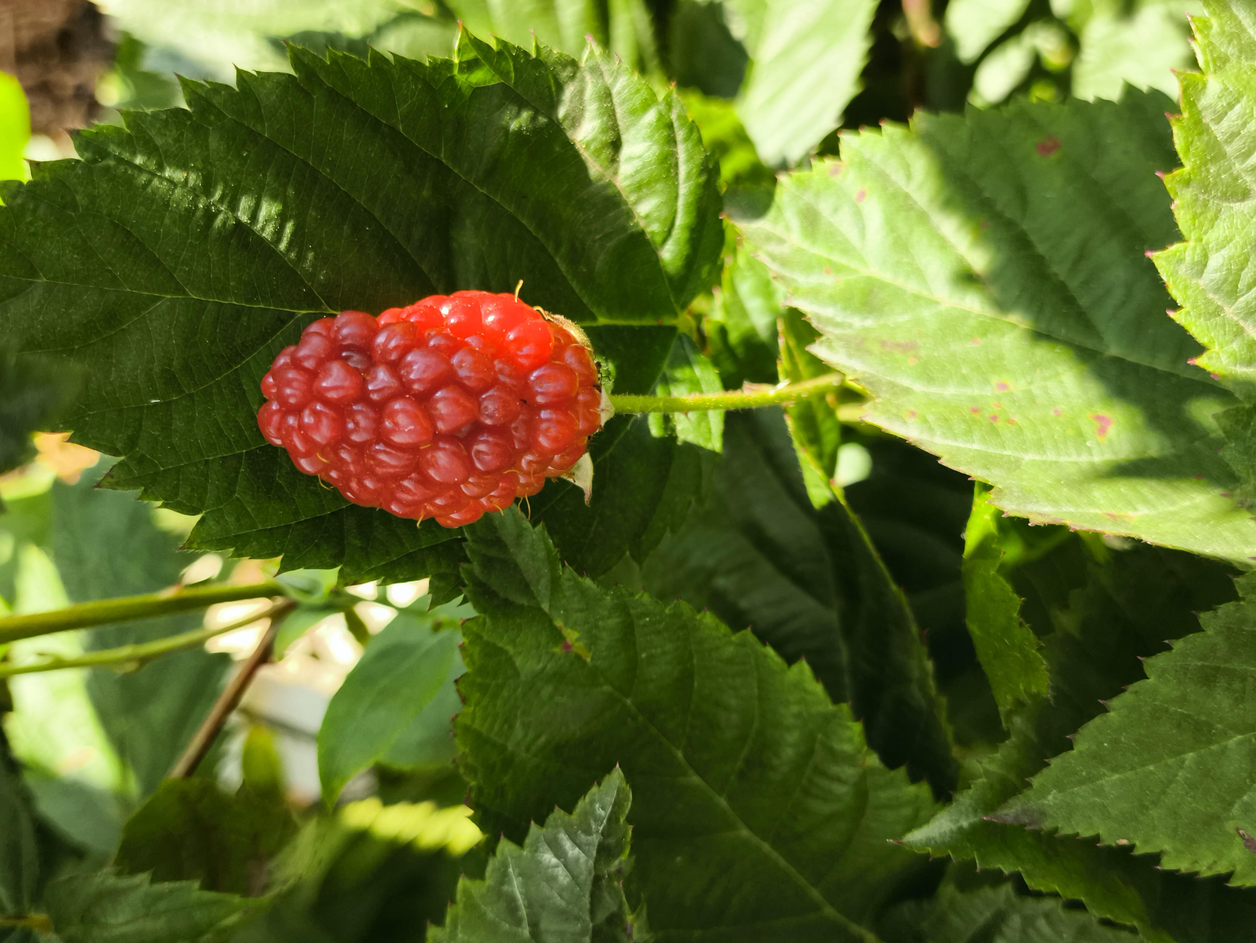naranja: (263, 300, 596, 526)
